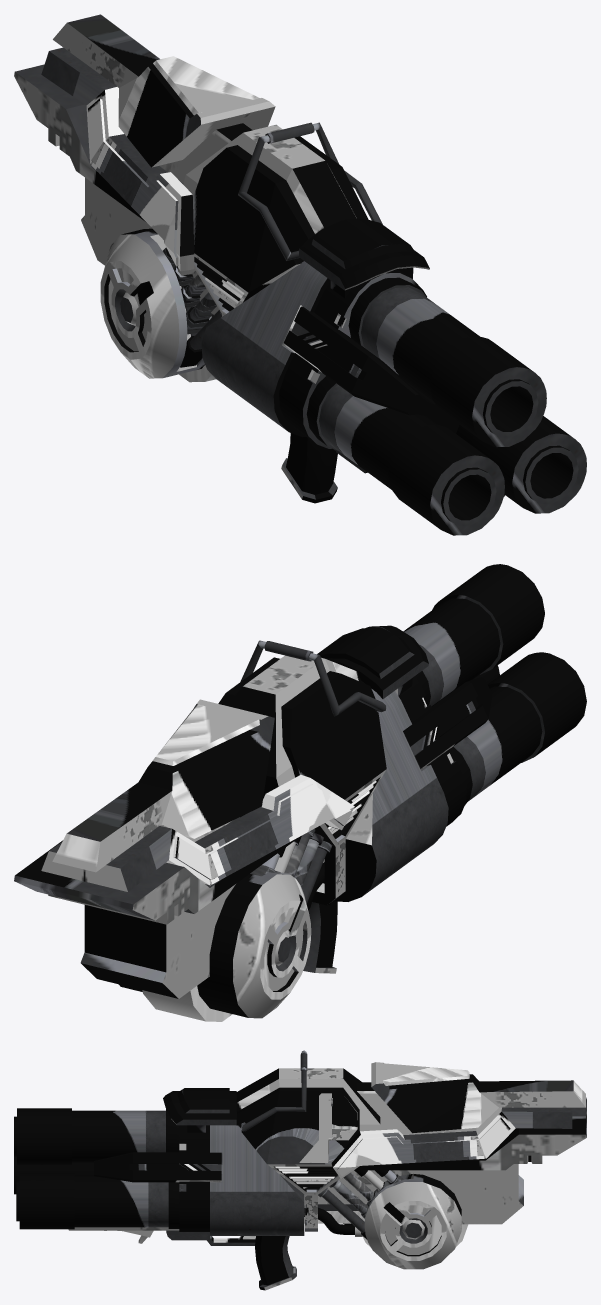
The picture shows the model from 3 angles, top to bottom: view 1: azimuth 30°, elevation 25°; view 2: azimuth 150°, elevation 25°; view 3: azimuth 270°, elevation 25°; orthographic projection. The views are drawn at different scales.
Visible parts, largest first — view 1: rocketlauncher_body, rocketlauncher_barrel_02, rocketlauncher_front, rocketlauncher_barrel_03, rocketlauncher_barrel_01, rocketlauncher_handle; view 2: rocketlauncher_body, rocketlauncher_front, rocketlauncher_barrel_02, rocketlauncher_barrel_03, rocketlauncher_handle; view 3: rocketlauncher_body, rocketlauncher_front, rocketlauncher_barrel_01, rocketlauncher_barrel_02, rocketlauncher_screen, rocketlauncher_screen_arm_03, rocketlauncher_barrel_03, rocketlauncher_handle.
Boxes of the visible parts, <box> form: rocketlauncher_body: <box>14,14,368,503</box>; rocketlauncher_barrel_02: <box>348,277,546,447</box>; rocketlauncher_front: <box>279,218,504,496</box>; rocketlauncher_barrel_03: <box>306,376,504,535</box>; rocketlauncher_barrel_01: <box>456,416,586,513</box>; rocketlauncher_handle: <box>238,122,382,260</box>; rocketlauncher_body: <box>14,655,448,1021</box>; rocketlauncher_front: <box>317,625,492,826</box>; rocketlauncher_barrel_02: <box>403,564,544,706</box>; rocketlauncher_barrel_03: <box>450,652,586,804</box>; rocketlauncher_handle: <box>240,640,386,716</box>; rocketlauncher_body: <box>166,1062,586,1290</box>; rocketlauncher_front: <box>68,1088,236,1243</box>; rocketlauncher_barrel_01: <box>16,1172,179,1229</box>; rocketlauncher_barrel_02: <box>14,1108,179,1164</box>; rocketlauncher_screen: <box>332,1093,357,1140</box>; rocketlauncher_screen_arm_03: <box>299,1093,328,1162</box>; rocketlauncher_barrel_03: <box>14,1156,93,1194</box>; rocketlauncher_handle: <box>241,1050,307,1131</box>.
Size of the model in its own units: 20.59 by 38.53 by 87.72.
